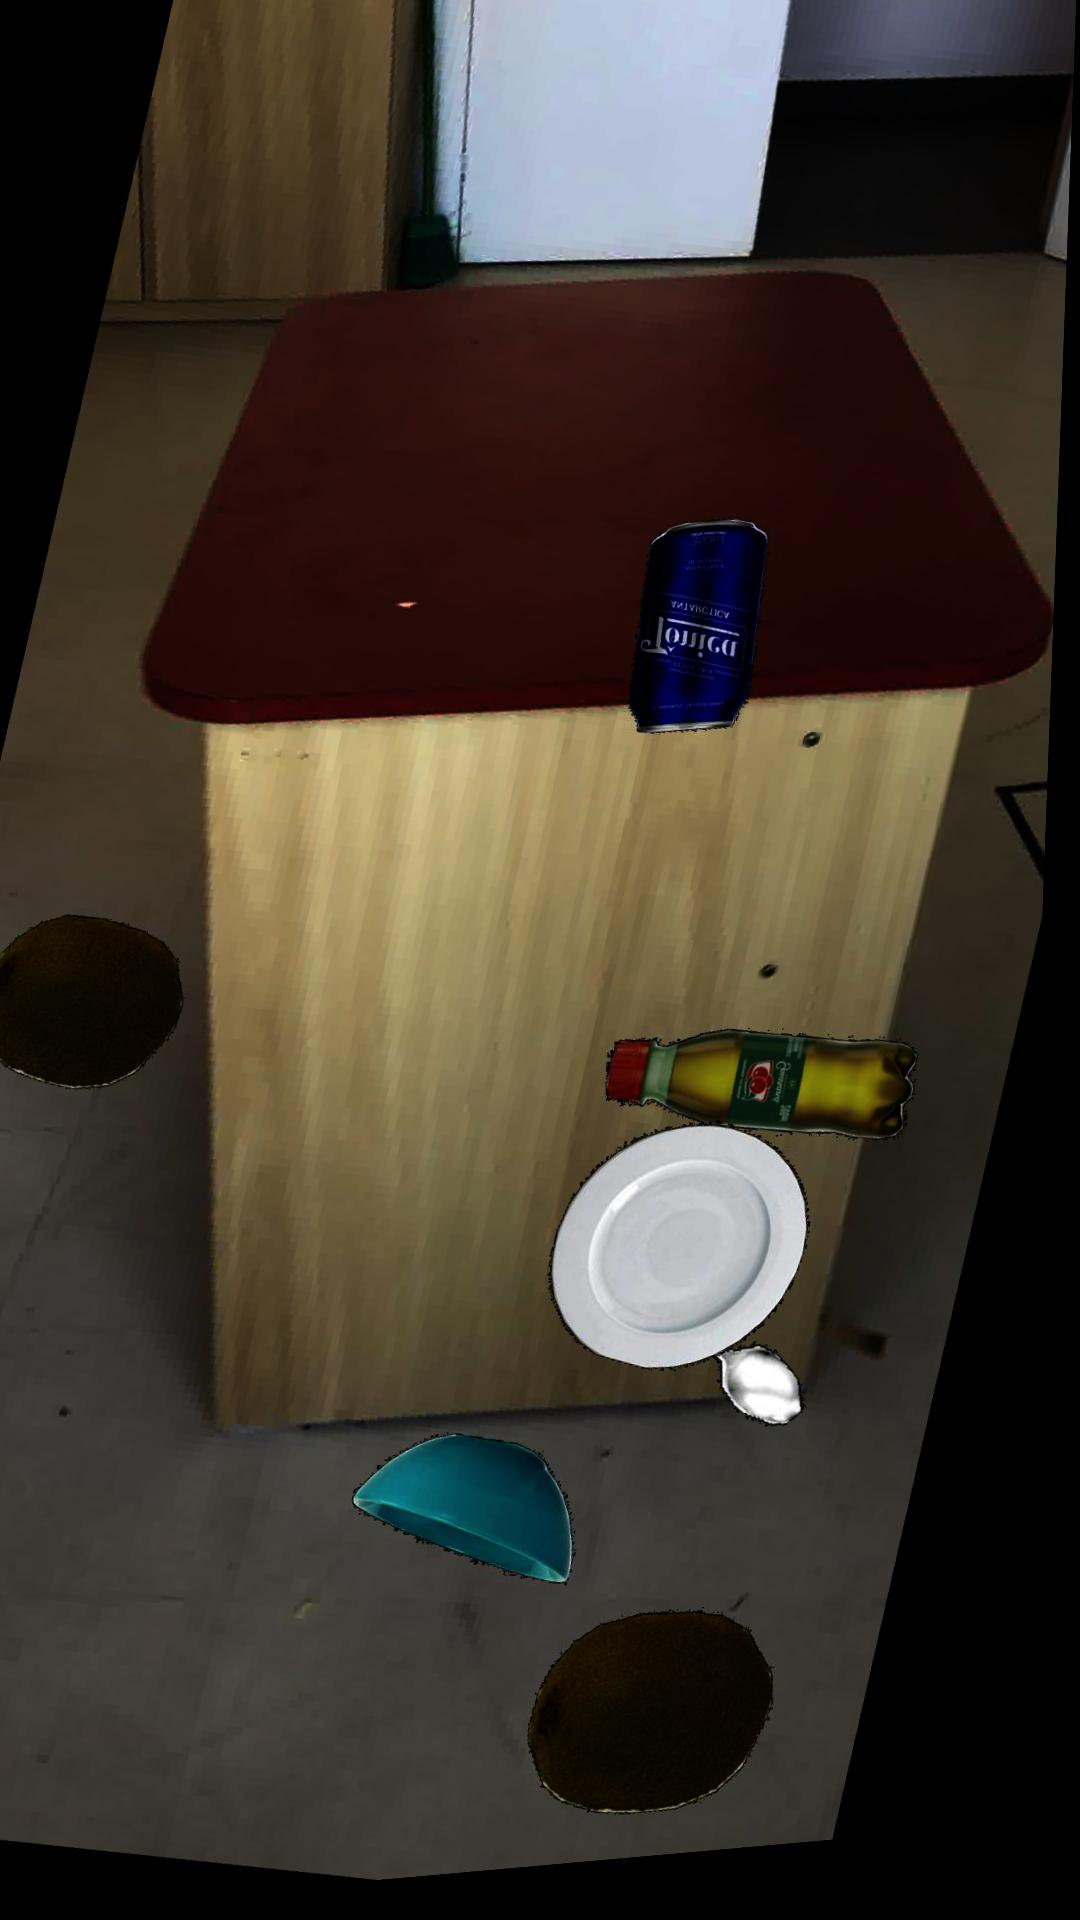bowl: (363, 1441, 585, 1594)
guarana: (613, 1042, 926, 1155)
kiwi: (541, 1623, 786, 1826), (0, 915, 190, 1091)
plate: (556, 1135, 819, 1382)
spoon: (725, 1358, 815, 1440)
tonic: (633, 531, 771, 745)
